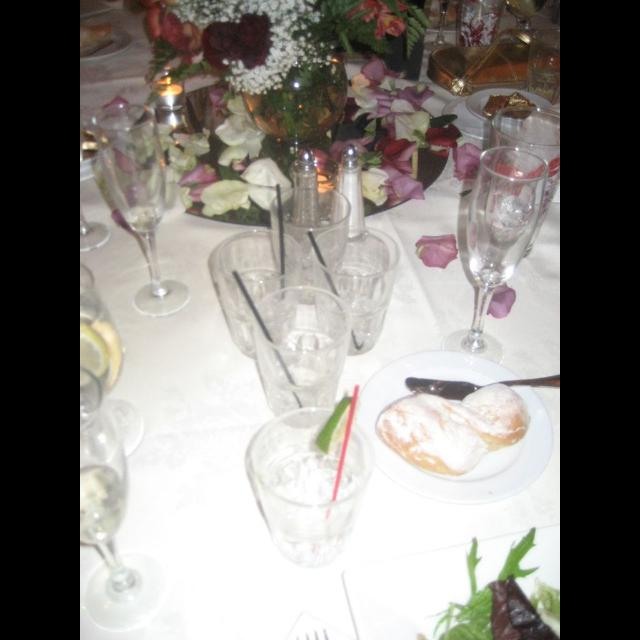Flower: (148, 0, 320, 96), (354, 57, 466, 183), (215, 96, 265, 164), (242, 159, 292, 209), (426, 222, 470, 270), (200, 176, 247, 216), (378, 174, 426, 204), (367, 1, 408, 36), (181, 162, 217, 196), (454, 144, 480, 178), (492, 282, 516, 316)
